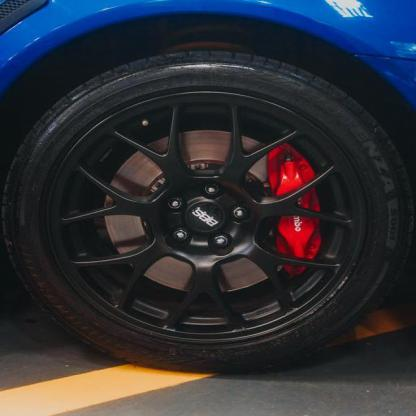Tire: (3, 47, 415, 378)
